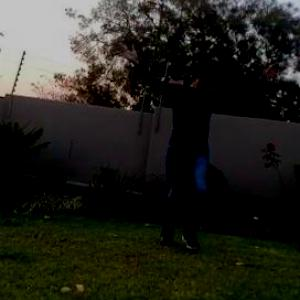takeoff: (119, 48, 284, 258)
